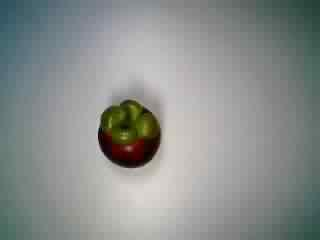mangosteen: (93, 97, 164, 169)
